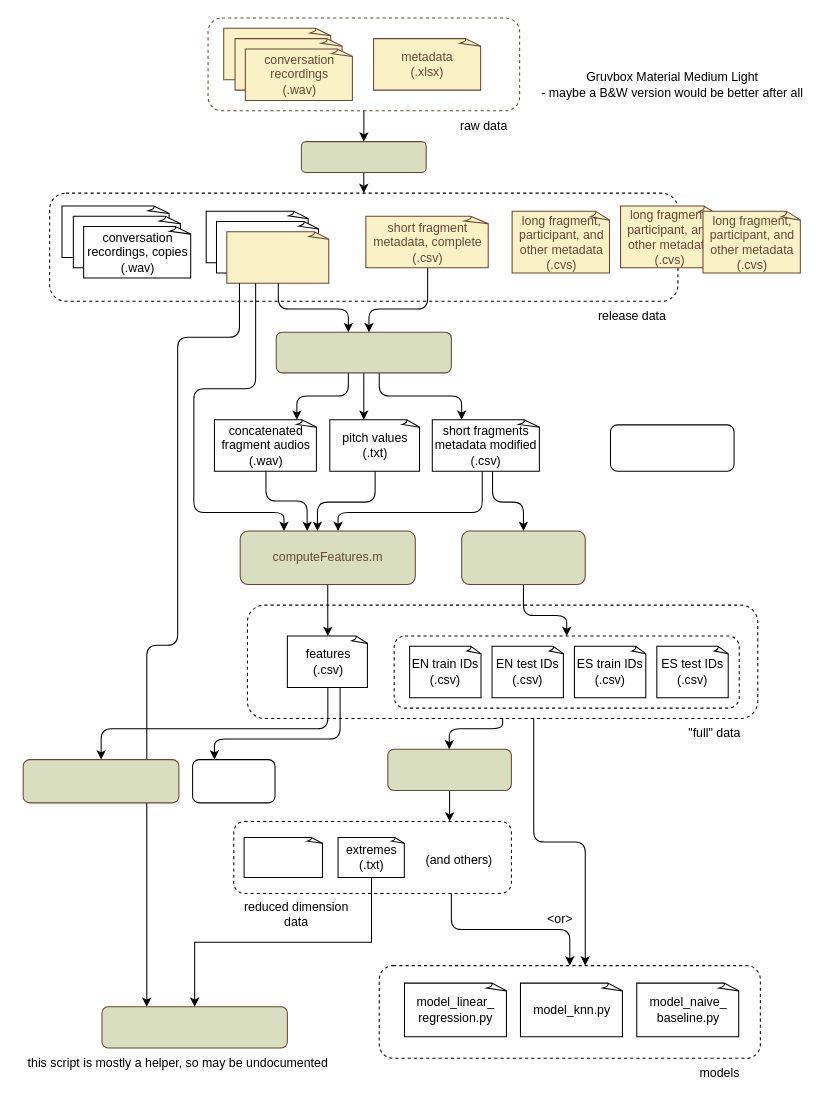
This 834x1107 diagram has some shape labels left out. The box of each missing label's shape, as (x1, y1, x2, y2) in pixels:
correlations: (192, 759, 275, 803)
create_partitions.py: (461, 530, 585, 585)
fragment audios (.wav): (226, 231, 330, 283)
loadings (.mat): (243, 836, 323, 878)
make_release.py: (300, 141, 426, 173)
parse_pca_extremes_files.py: (101, 1006, 287, 1048)
plotFeatureDistributions.m: (22, 759, 179, 803)
prep_for_feature_comp.py: (275, 331, 451, 373)
runPCAfunctions.m: (387, 748, 511, 791)
TODO: transcription, synthesis: (609, 424, 734, 471)
